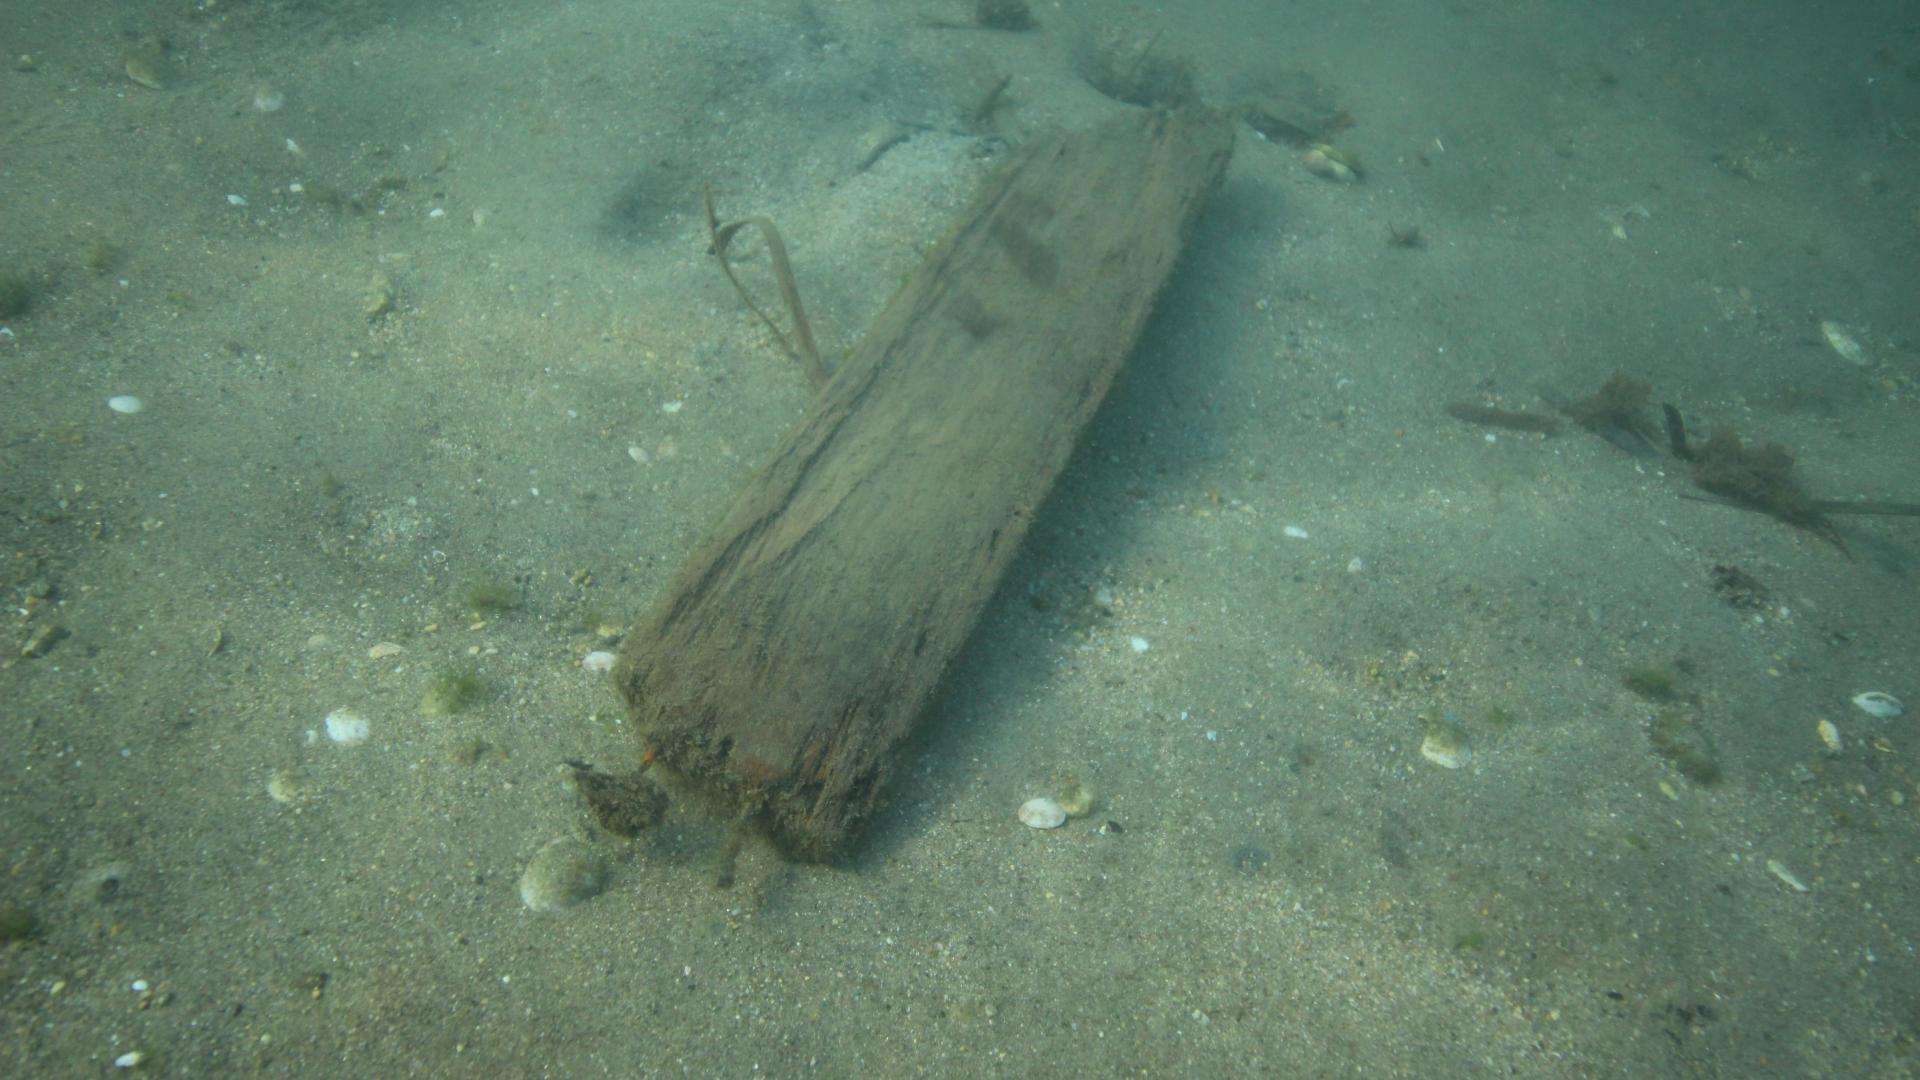wood: (608, 104, 1240, 868)
